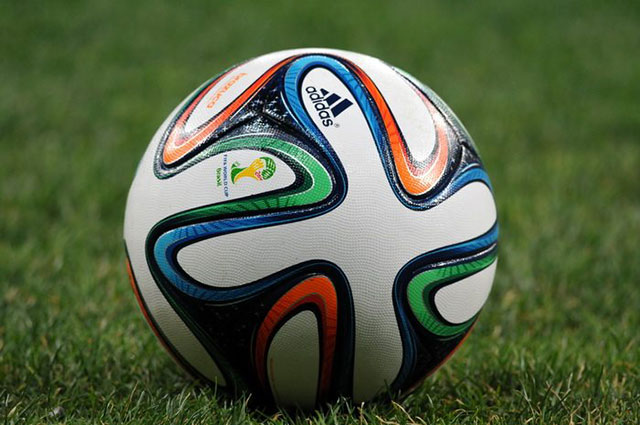football: (122, 45, 503, 410)
